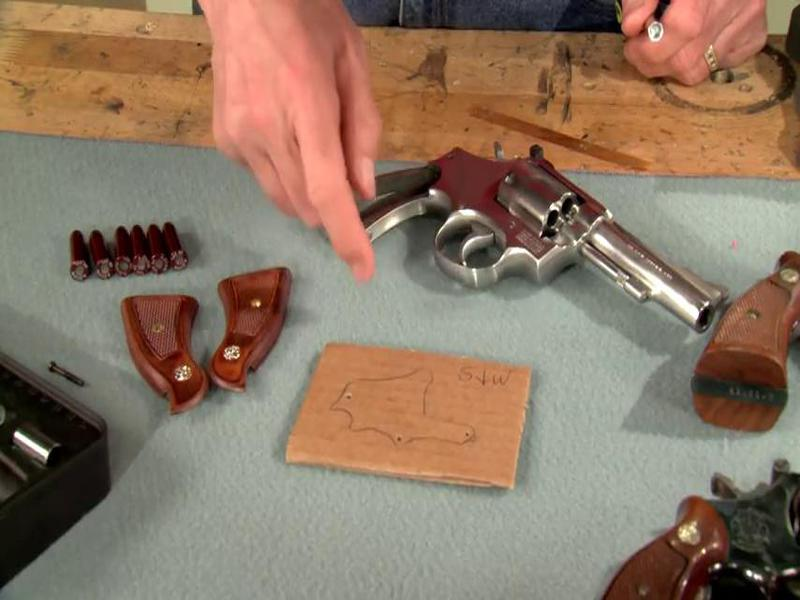Revolver: (276, 105, 716, 370)
